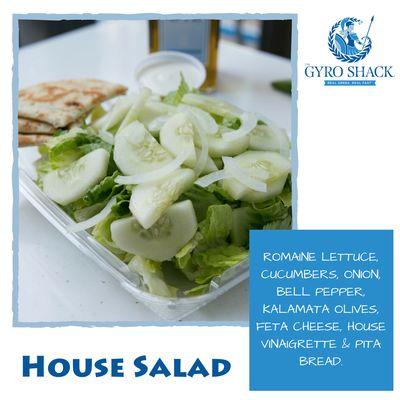sushi: (19, 62, 314, 321)
